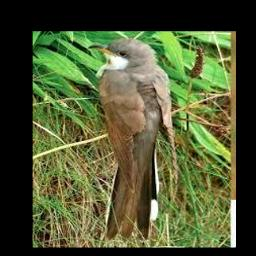Cuckoo: (88, 39, 173, 237)
